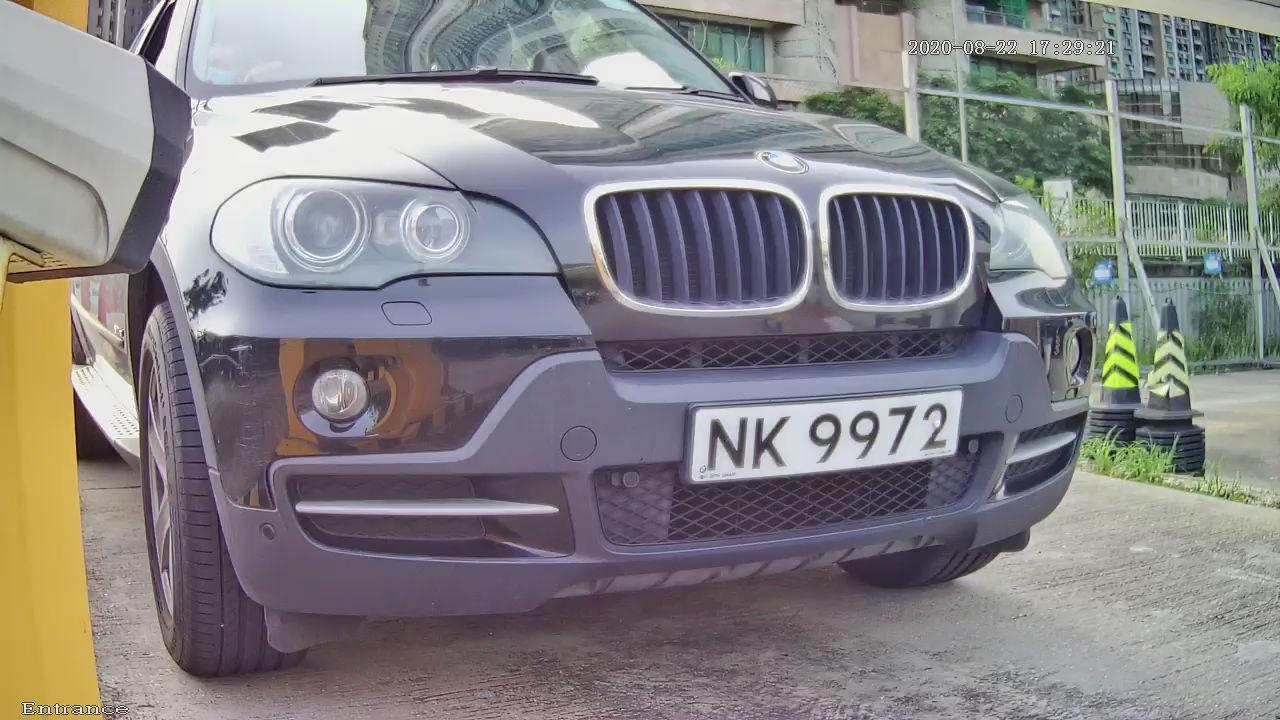Car: (35, 7, 1143, 663)
License Plate: (636, 367, 992, 535)
